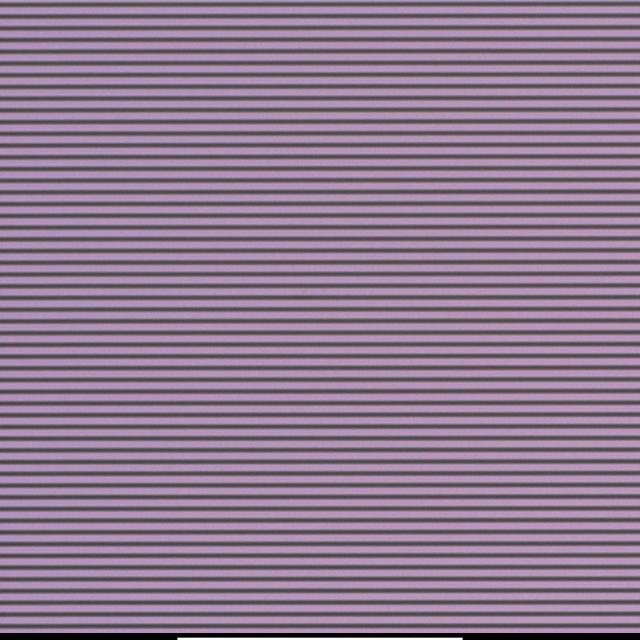03_intrusion: (335, 270, 347, 280)
